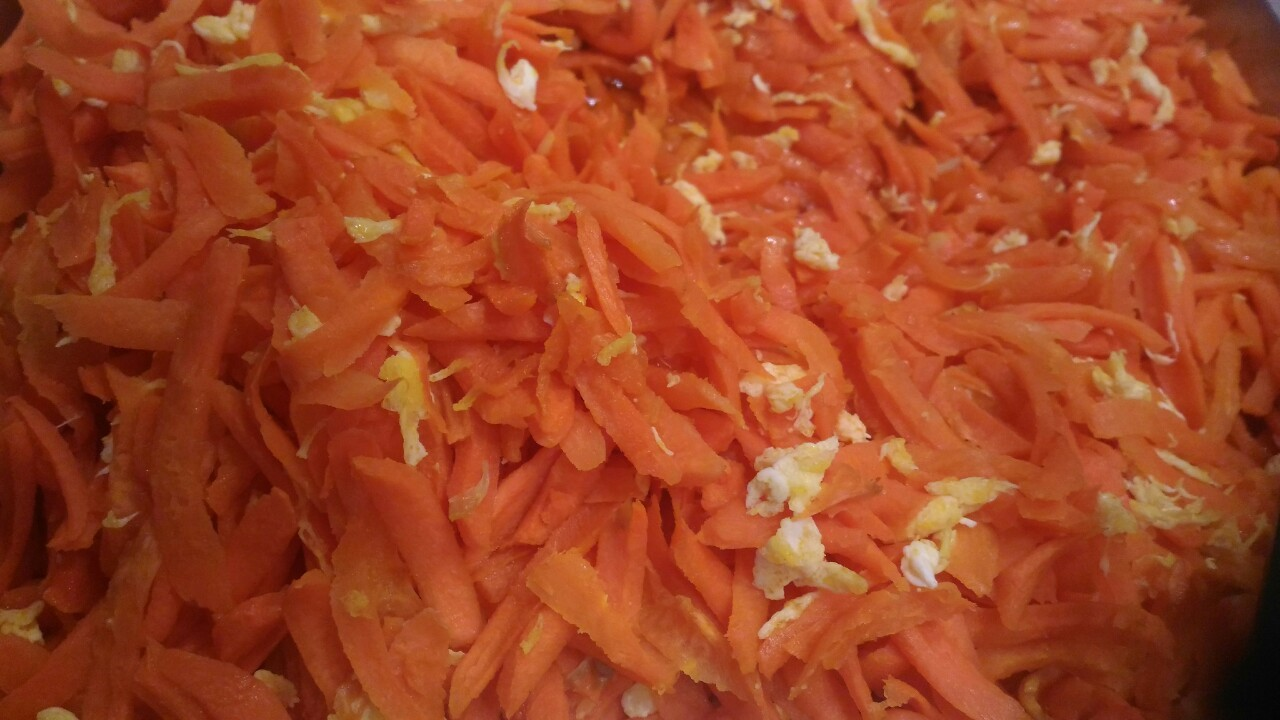carrot_eggs: (11, 2, 1268, 706)
